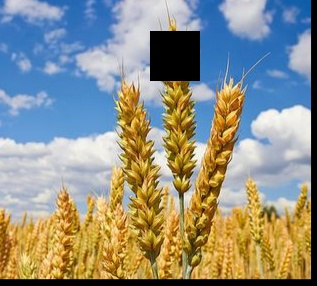wheat: (187, 80, 237, 271), (113, 71, 159, 266), (160, 18, 198, 195)
